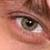eye: (22, 18, 37, 30)
